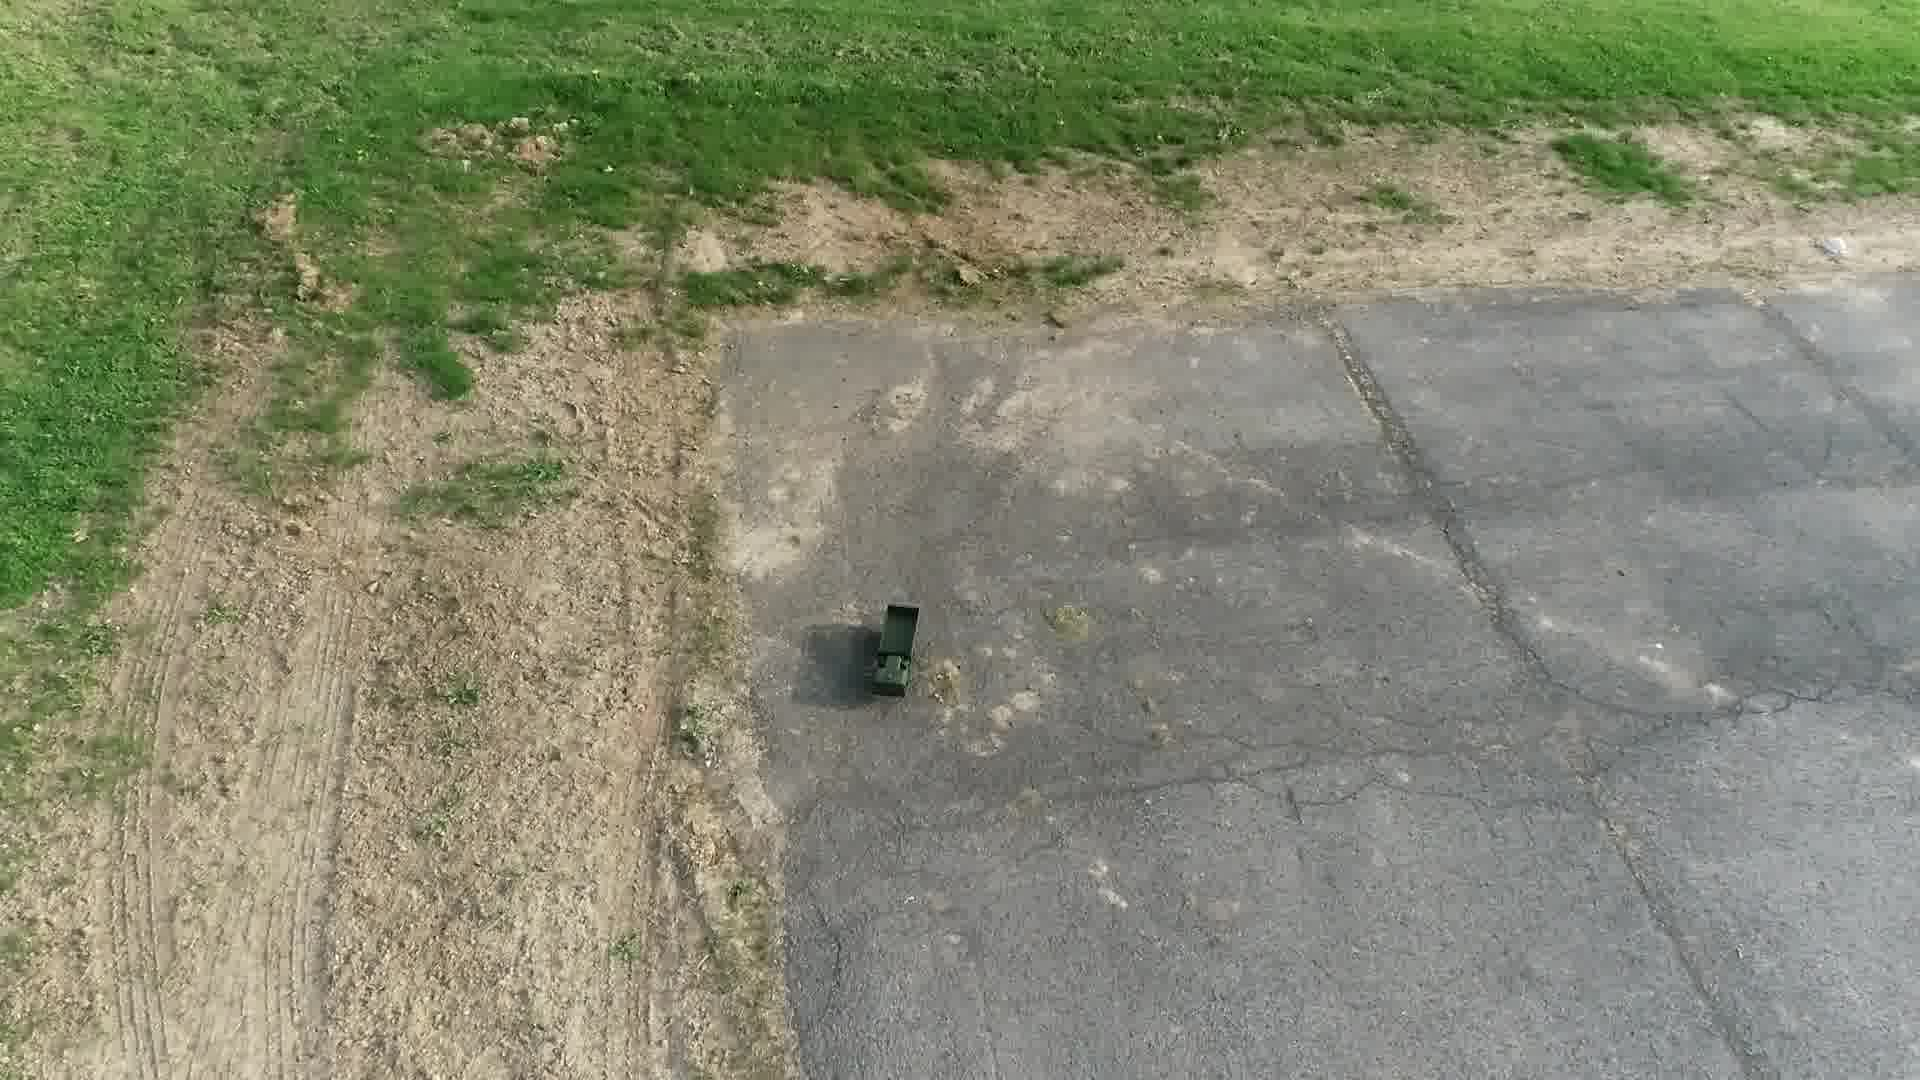transporter9: (862, 599, 928, 700)
